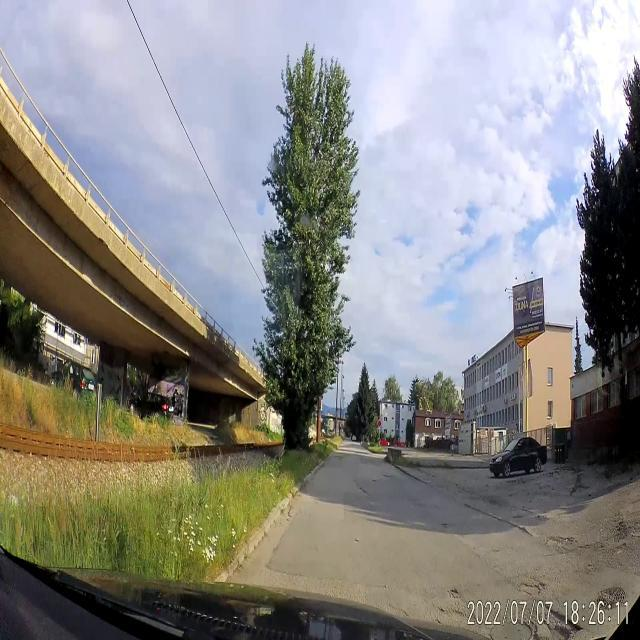Manhole: (592, 582, 628, 616), (490, 624, 532, 640)
Pothole: (546, 605, 578, 640), (436, 513, 460, 544), (442, 577, 465, 608), (356, 482, 371, 500), (334, 453, 344, 462), (382, 474, 394, 479)
